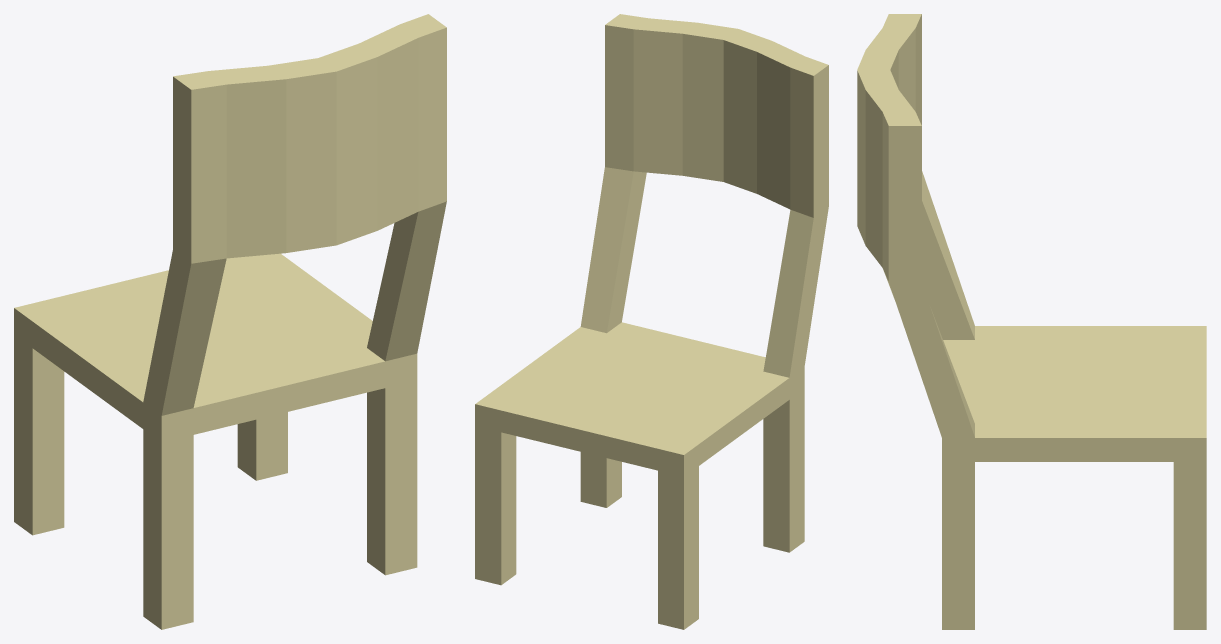
Rendered from Chair.fbx.
3 views of the same model, side by side, from view 1: azimuth 30°, elevation 25°; view 2: azimuth 150°, elevation 25°; view 3: azimuth 270°, elevation 25° (orthographic). The views are drawn at different scales.
Visible parts, largest first — view 1: Chair; view 2: Chair; view 3: Chair.
Part boxes in pixels (bbox=[...]): Chair: bbox=[14, 14, 446, 629]; Chair: bbox=[475, 14, 828, 629]; Chair: bbox=[857, 14, 1206, 629].
Bounding box in the file's own units: 50 × 105 × 66.
